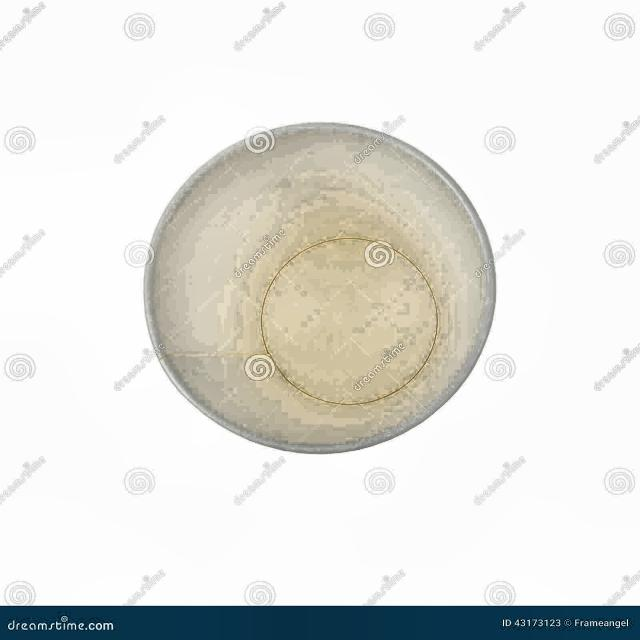Cup: (132, 111, 516, 480)
